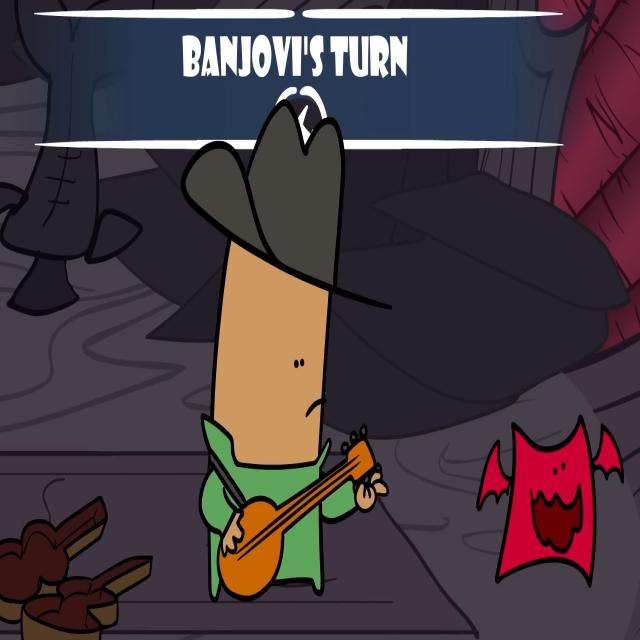Banjovi: (200, 100, 379, 600)
